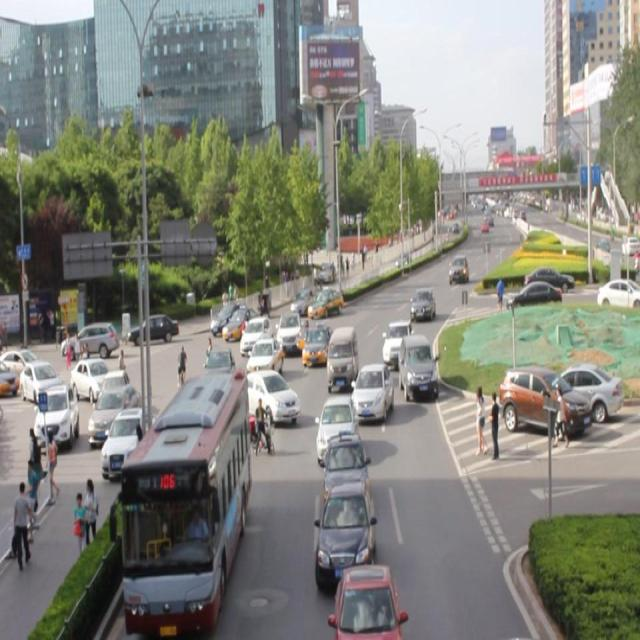car: (316, 482, 374, 585), (334, 562, 400, 640), (322, 433, 370, 510), (241, 368, 299, 423), (316, 394, 358, 465), (351, 362, 392, 423), (398, 334, 435, 397), (248, 334, 288, 376), (304, 316, 338, 362), (201, 345, 233, 393), (274, 307, 304, 357), (382, 320, 413, 365), (311, 279, 348, 315), (240, 316, 271, 355), (410, 288, 435, 320)
truck: (326, 324, 357, 388)
van: (120, 372, 245, 627)
